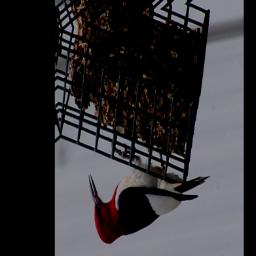Woodpecker: (87, 128, 213, 249)
